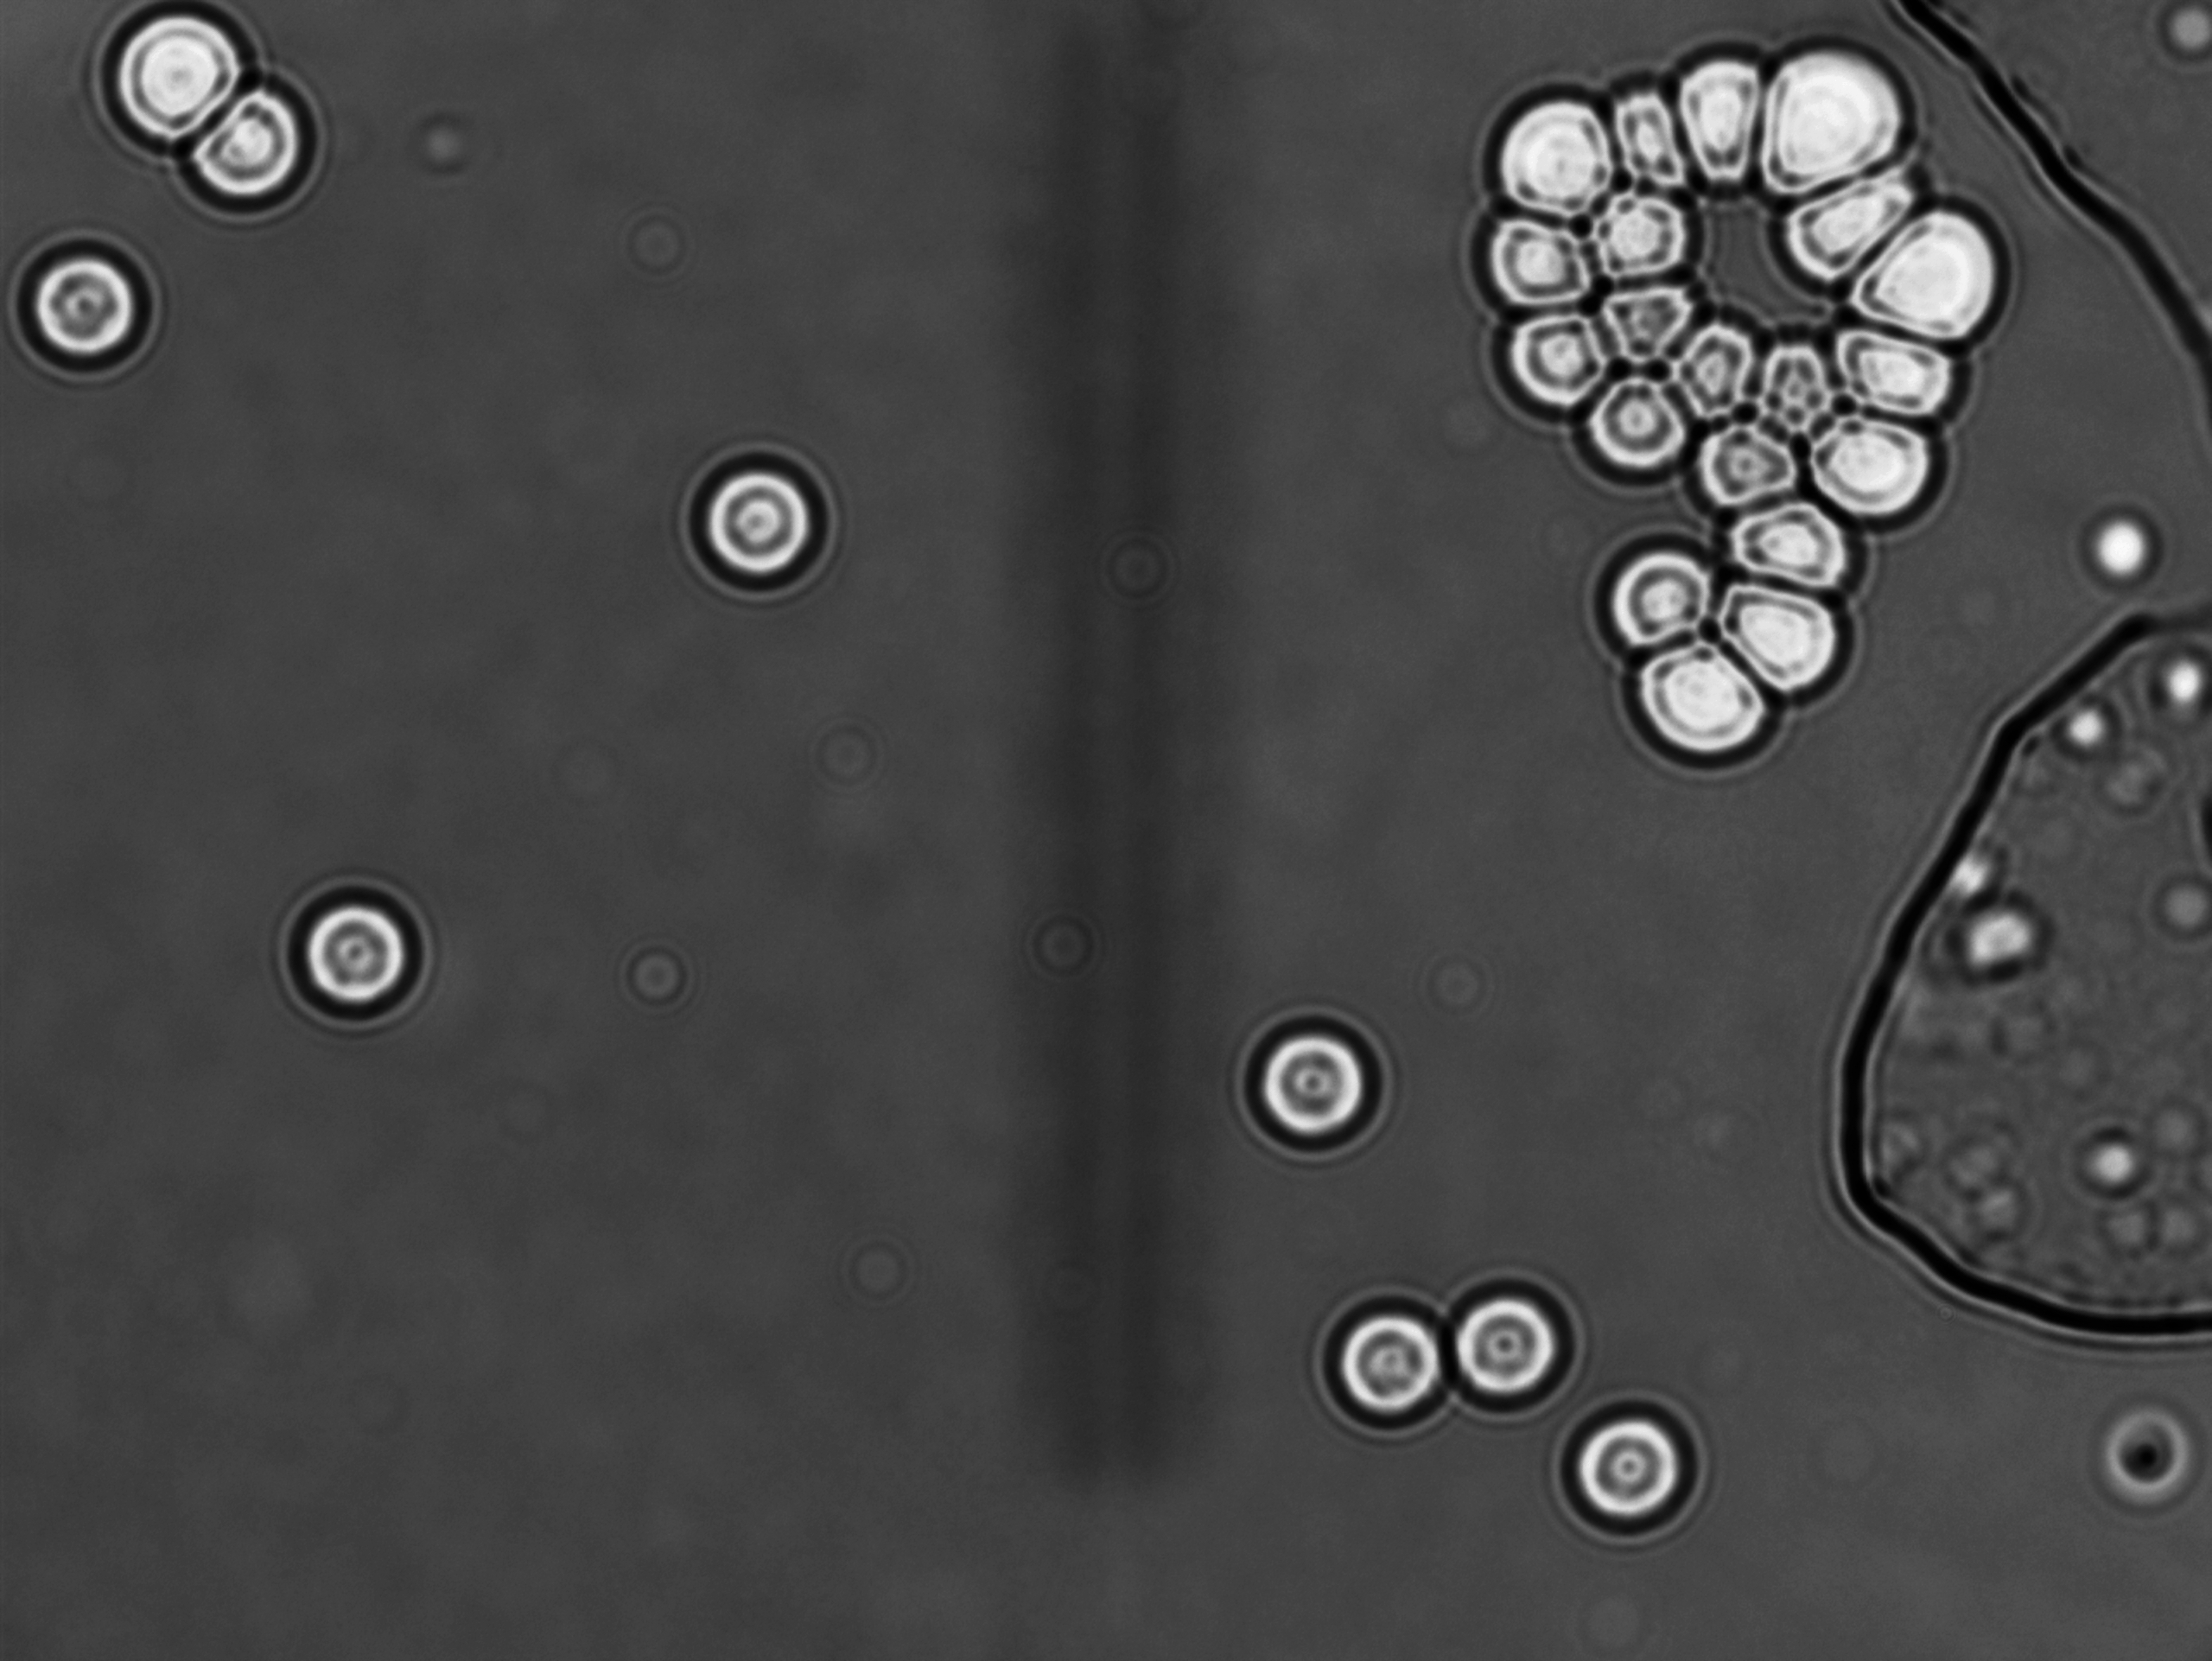depth:20: (1219, 989, 1397, 1169), (258, 855, 434, 1031), (679, 438, 855, 604), (1547, 1389, 1717, 1558), (1434, 1260, 1594, 1431), (1303, 1286, 1462, 1446)
